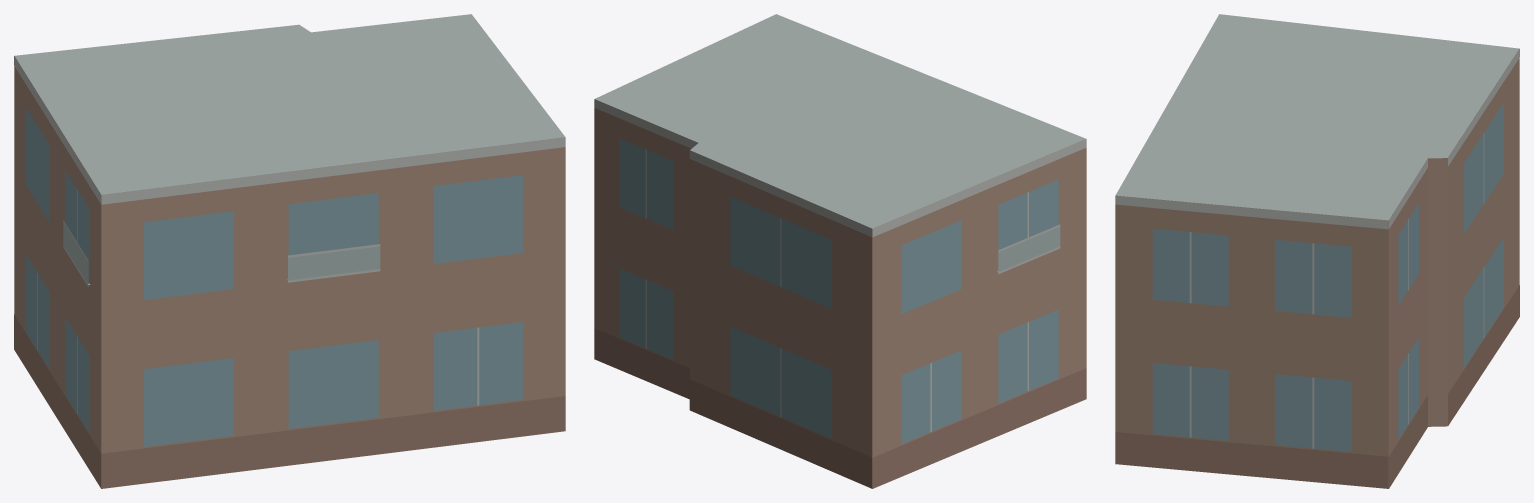
The model's file is survey-upis-32481319.glb.
3 renders of one model, left to right at view 1: azimuth 30°, elevation 25°; view 2: azimuth 150°, elevation 25°; view 3: azimuth 270°, elevation 25°, orthographic. The views are drawn at different scales.
Parts seen in each view (by area): view 1: survey-upis-32481319.tmp; view 2: survey-upis-32481319.tmp; view 3: survey-upis-32481319.tmp.
Part boxes in pixels (x1,y1,x2,y2): survey-upis-32481319.tmp: (14, 14, 565, 488); survey-upis-32481319.tmp: (594, 14, 1086, 488); survey-upis-32481319.tmp: (1115, 14, 1519, 488).
Size of the model in its own units: 12.05 by 7.3 by 9.98.
